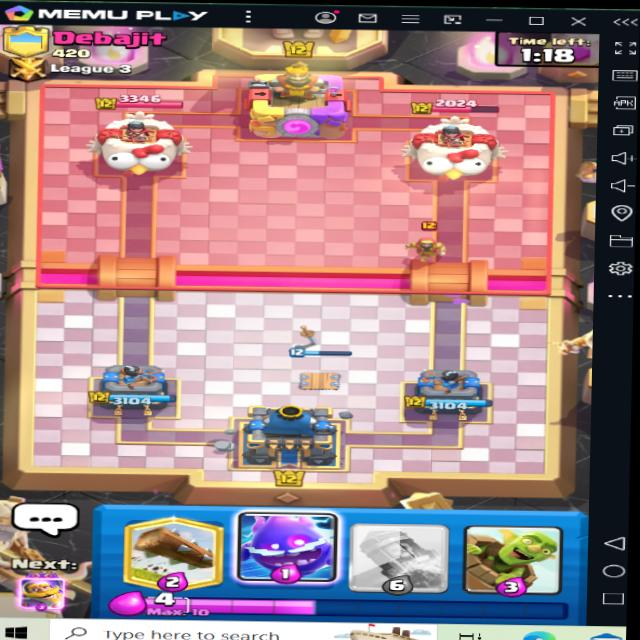wizard: (402, 213, 458, 273)
